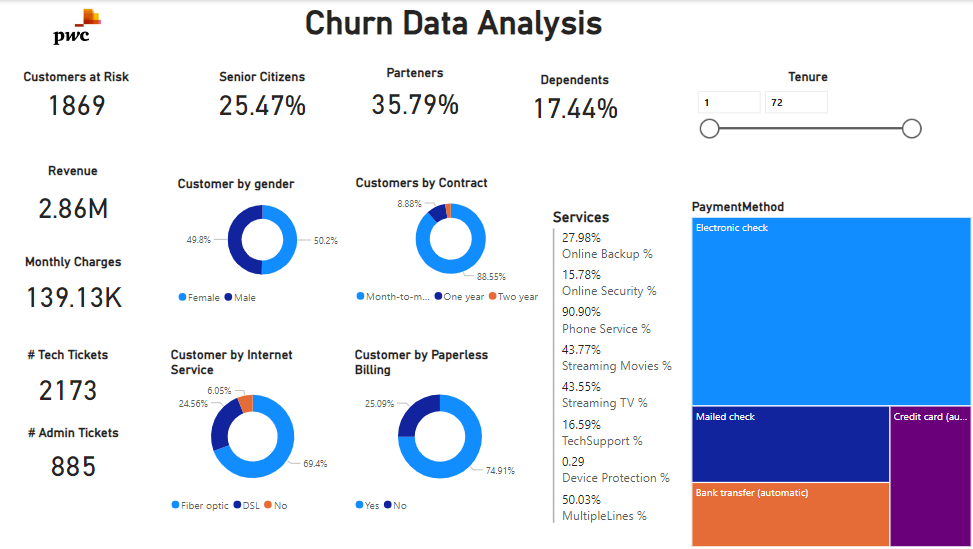

Layout of this report page (visuals, bound fields, positions):
{"tool":"powerbi","page":{"name":"Visuals","canvas":[1280,720],"ordinal":0},"visuals":[{"type":"card","title":"Customers at Risk","fields":{"Values":["Count(01 Churn-Dataset.customerID)"]},"box":[0,90,207.1,68.6],"z":0},{"type":"donutChart","title":"Customer by gender","fields":{"Category":["01 Churn-Dataset.gender"],"Y":["CountNonNull(01 Churn-Dataset.gender)"]},"box":[231.4,230,231.4,177.1],"z":1000},{"type":"card","title":"Revenue","fields":{"Values":["Sum(01 Churn-Dataset.TotalCharges)"]},"box":[22.9,212.9,154.3,94.3],"z":2000},{"type":"treemap","title":"PaymentMethod","fields":{"Group":["01 Churn-Dataset.PaymentMethod"],"Values":["CountNonNull(01 Churn-Dataset.PaymentMethod)"]},"box":[904.3,260,375.7,460],"z":3000},{"type":"donutChart","title":"Customer by Internet Service","fields":{"Category":["01 Churn-Dataset.InternetService"],"Y":["CountNonNull(01 Churn-Dataset.InternetService)"]},"box":[222.9,454.3,224.3,225.7],"z":4000},{"type":"multiRowCard","title":"Services","fields":{"Values":["01 Churn-Dataset.Online Backup Count %","01 Churn-Dataset.Online Security Count %","01 Churn-Dataset.Phone Service Count %","01 Churn-Dataset.Streaming Movies Count %","01 Churn-Dataset.StreamingTV Count %","01 Churn-Dataset.TechSupport %","01 Churn-Dataset.Device Protection Count %","01 Churn-Dataset.MultipleLines %"]},"box":[722.9,272.9,181.4,431.4],"z":5000},{"type":"card","title":"# Tech Tickets","fields":{"Values":["Sum(01 Churn-Dataset.numTechTickets)"]},"box":[0,454.3,185.7,87.1],"z":6000},{"type":"card","title":"Monthly Charges","fields":{"Values":["Sum(01 Churn-Dataset.MonthlyCharges)"]},"box":[25.7,332.9,147.1,87.1],"z":7000},{"type":"card","title":"# Admin Tickets","fields":{"Values":["Sum(01 Churn-Dataset.numAdminTickets)"]},"box":[14.3,555.7,171.4,82.9],"z":8000},{"type":"card","title":"Dependents","fields":{"Values":["01 Churn-Dataset.Dependent in %"]},"box":[660,94.3,192.9,70],"z":9000},{"type":"card","title":"Parteners","fields":{"Values":["01 Churn-Dataset.Partener in %"]},"box":[454.3,85.7,185.7,78.6],"z":10000},{"type":"card","title":"Senior Citizens","fields":{"Values":["01 Churn-Dataset.Senior Citizen in %"]},"box":[258.6,90,175.7,70],"z":11000},{"type":"donutChart","title":"Customers by Contract","fields":{"Category":["01 Churn-Dataset.Contract"],"Y":["CountNonNull(01 Churn-Dataset.PaymentMethod)"]},"box":[464.3,228.6,258.6,177.1],"z":12000},{"type":"donutChart","title":"Customer by Paperless Billing","fields":{"Y":["CountNonNull(01 Churn-Dataset.PaperlessBilling)"],"Category":["01 Churn-Dataset.PaperlessBilling"]},"box":[462.9,454.3,232.9,225.7],"z":13000},{"type":"slicer","title":"Tenure","fields":{"Values":["01 Churn-Dataset.tenure"]},"box":[904.3,90,314.3,101.4],"z":14000},{"type":"textbox","box":[382.9,0,431.4,67.1],"z":15000},{"type":"image","box":[0,0,195.7,91.4],"z":15001}]}

Visuals, with their boxes in screenshot pixels (x1, y1, x2, y2), scaled from the page's 1280x720 canvas onto the 973x549 screenshot:
"Customers at Risk" card: (0, 69, 157, 121)
"Customer by gender" donutChart: (176, 175, 352, 310)
"Revenue" card: (17, 162, 135, 234)
"PaymentMethod" treemap: (687, 198, 972, 548)
"Customer by Internet Service" donutChart: (169, 346, 340, 518)
"Services" multiRowCard: (550, 208, 687, 537)
"# Tech Tickets" card: (0, 346, 141, 413)
"Monthly Charges" card: (20, 254, 131, 320)
"# Admin Tickets" card: (11, 424, 141, 487)
"Dependents" card: (502, 72, 648, 125)
"Parteners" card: (345, 65, 486, 125)
"Senior Citizens" card: (197, 69, 330, 122)
"Customers by Contract" donutChart: (353, 174, 550, 309)
"Customer by Paperless Billing" donutChart: (352, 346, 529, 518)
"Tenure" slicer: (687, 69, 926, 146)
textbox: (291, 0, 619, 51)
image: (0, 0, 149, 70)
